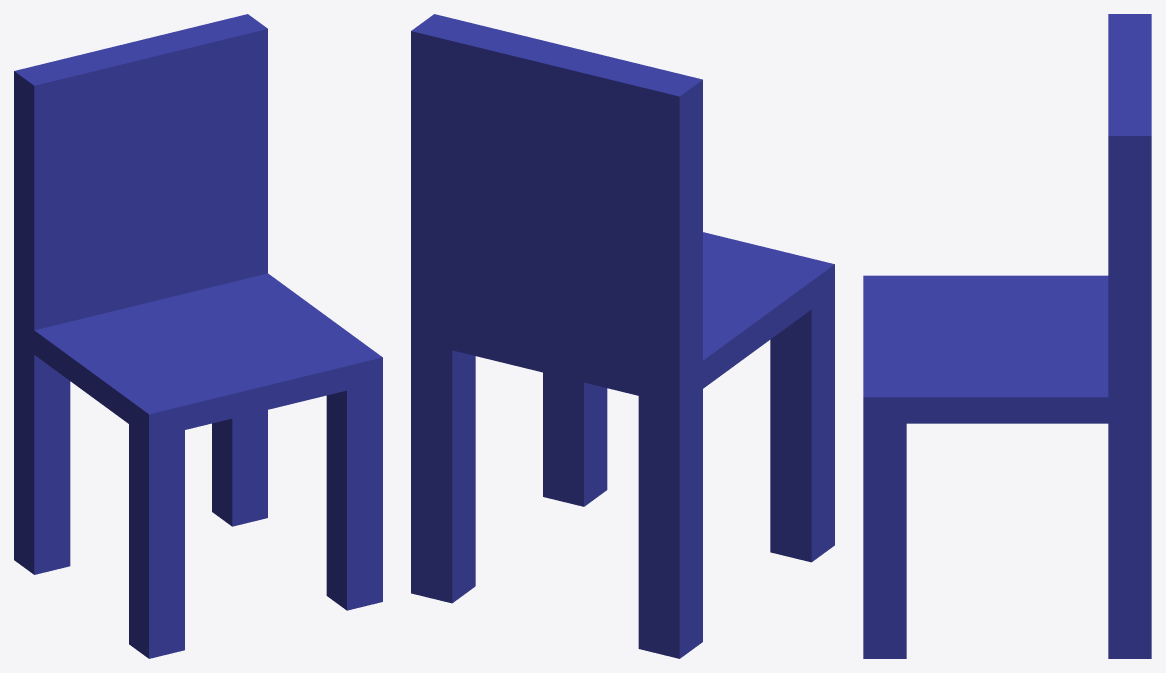
The model's file is chair_1x2x1.FBX.
3 views of the same model, side by side, from view 1: azimuth 30°, elevation 25°; view 2: azimuth 150°, elevation 25°; view 3: azimuth 270°, elevation 25° (orthographic). The views are drawn at different scales.
Visible parts, largest first — view 1: chair_1x2x1; view 2: chair_1x2x1; view 3: chair_1x2x1.
Part boxes in pixels (left/top/right/bottom): chair_1x2x1: left=14, top=14, right=382, bottom=658; chair_1x2x1: left=411, top=14, right=834, bottom=658; chair_1x2x1: left=863, top=14, right=1151, bottom=658.
Size of the model in its own units: 1 by 2 by 1.
